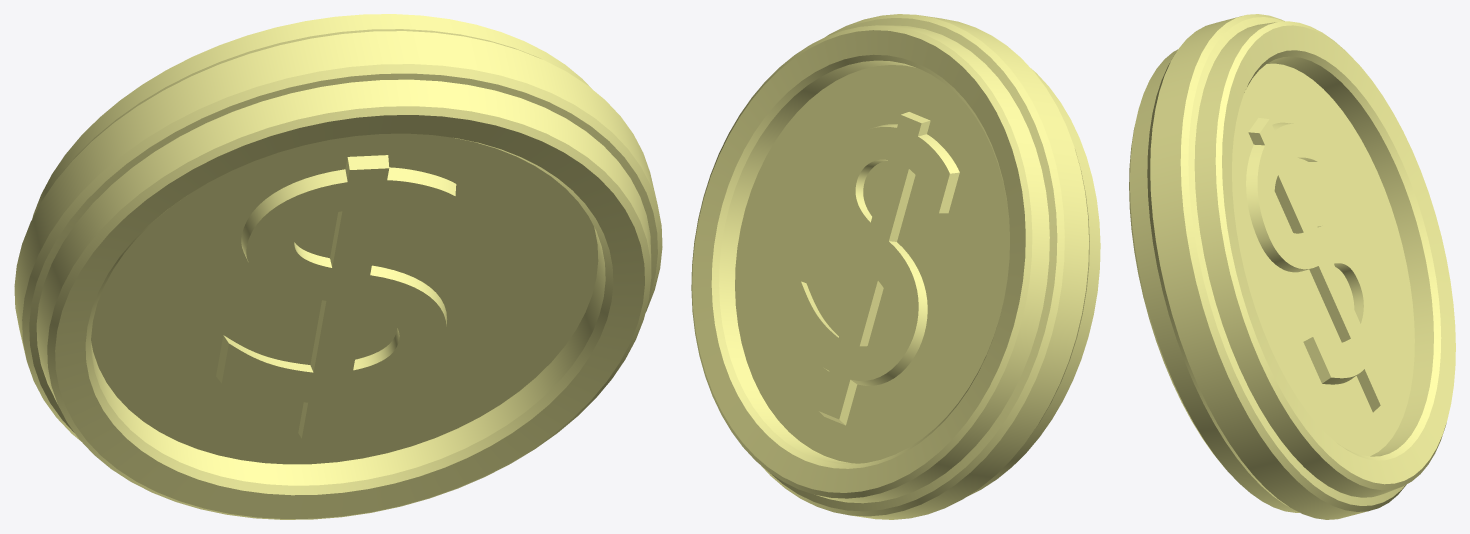
The model's file is Money.fbx.
The picture shows the model from 3 angles, left to right: view 1: azimuth 30°, elevation 25°; view 2: azimuth 150°, elevation 25°; view 3: azimuth 270°, elevation 25°; orthographic projection. The views are drawn at different scales.
Visible parts, largest first — view 1: Money; view 2: Money; view 3: Money.
Part boxes in pixels (x1,y1,x2,y2): Money: [14, 14, 662, 519]; Money: [691, 14, 1100, 519]; Money: [1129, 14, 1455, 519].
Size of the model in its own units: 193 by 187 by 126.
